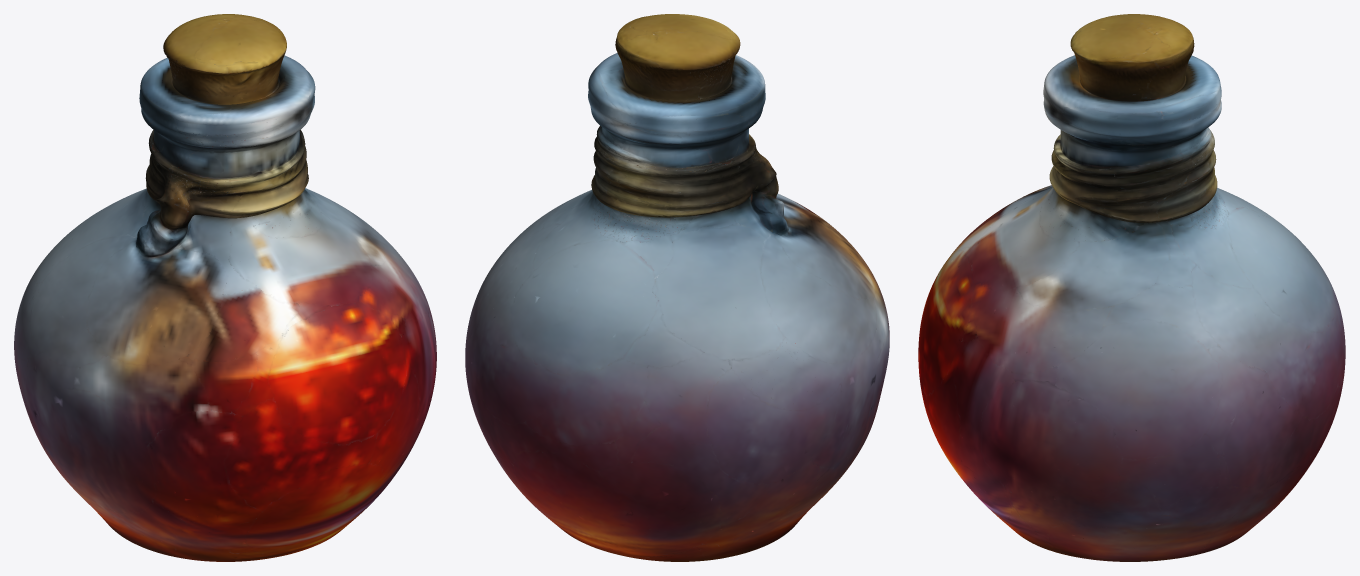
File: potion_bottle.glb
3 views of the same model, side by side, from view 1: azimuth 30°, elevation 25°; view 2: azimuth 150°, elevation 25°; view 3: azimuth 270°, elevation 25° (orthographic).
Parts seen in each view (by area): view 1: material; view 2: material; view 3: material.
Part boxes in pixels (x1,y1,x2,y2): material: [14, 14, 436, 561]; material: [465, 14, 889, 561]; material: [918, 14, 1345, 561].
Bounding box in the file's own units: 0.8643 × 1.09 × 0.8703.
1 material, 1 textured.
